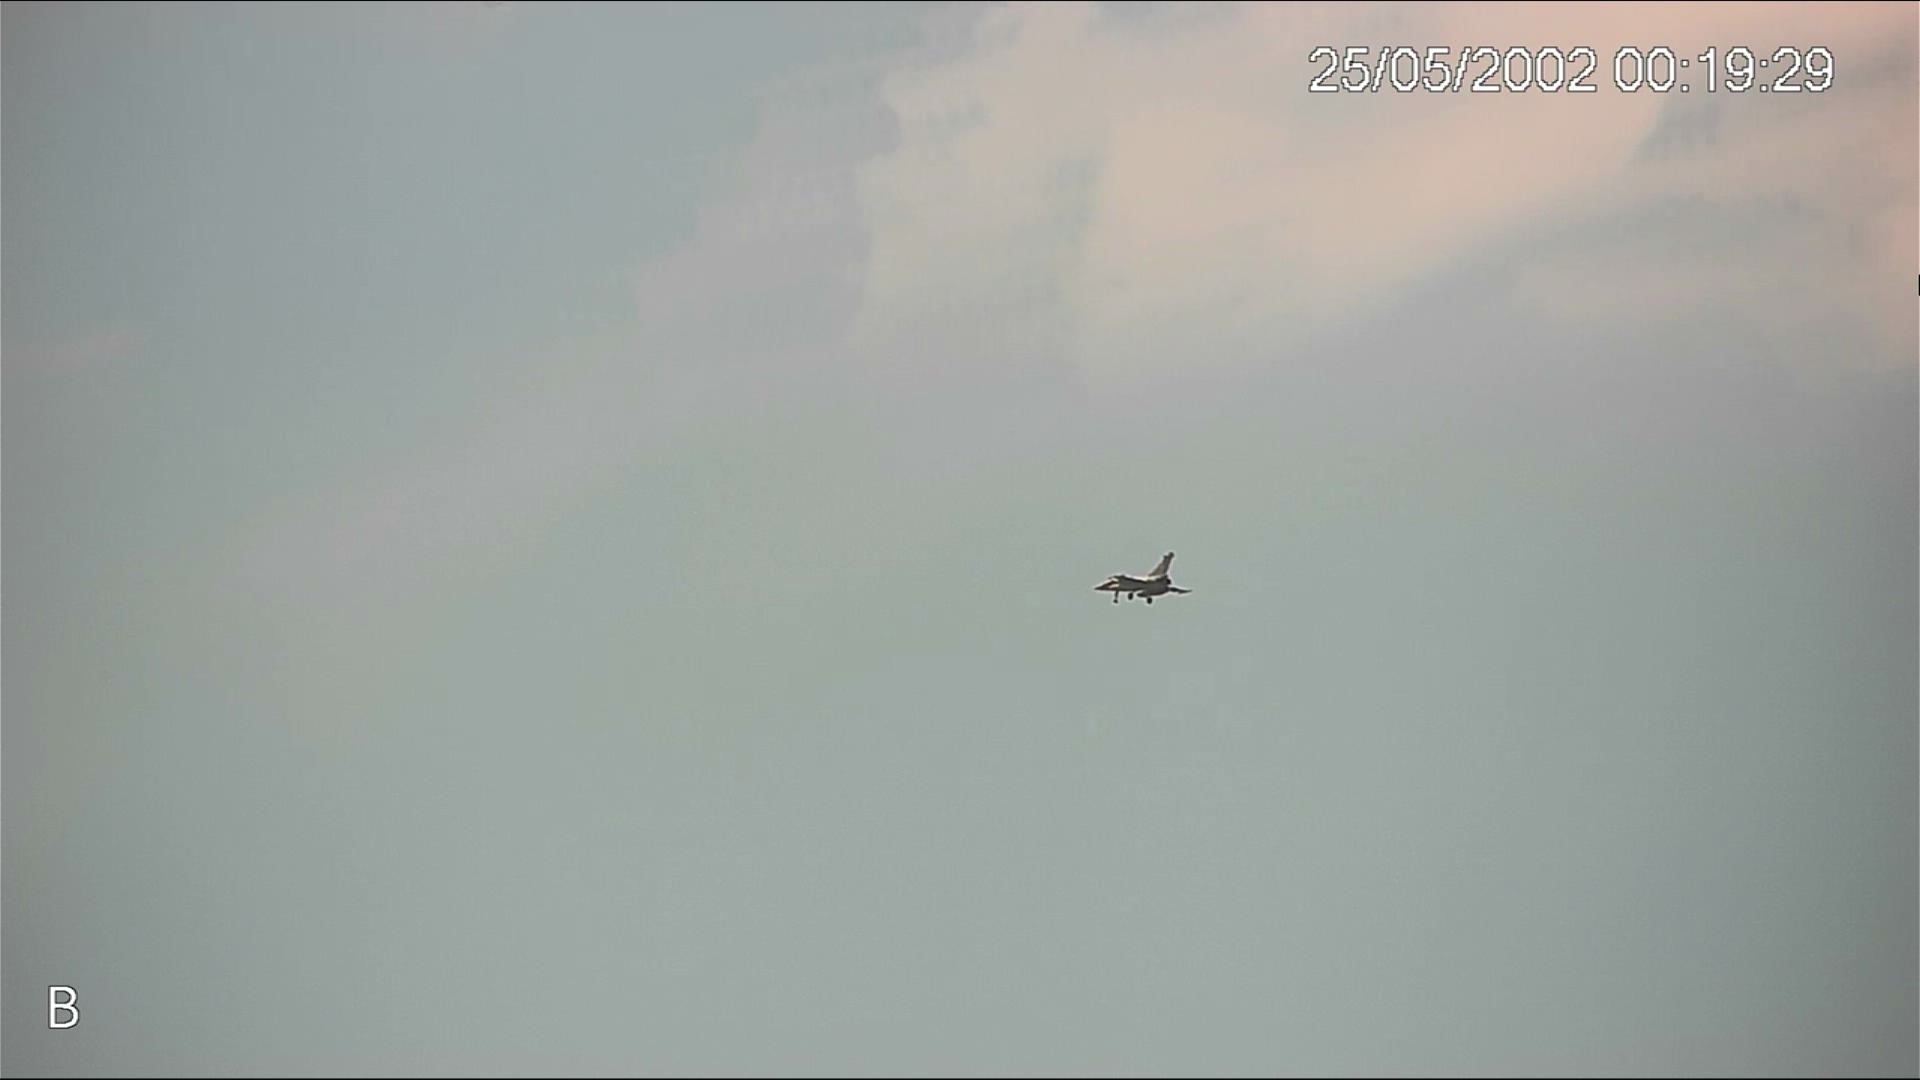SU_30: (1089, 549, 1193, 607)
